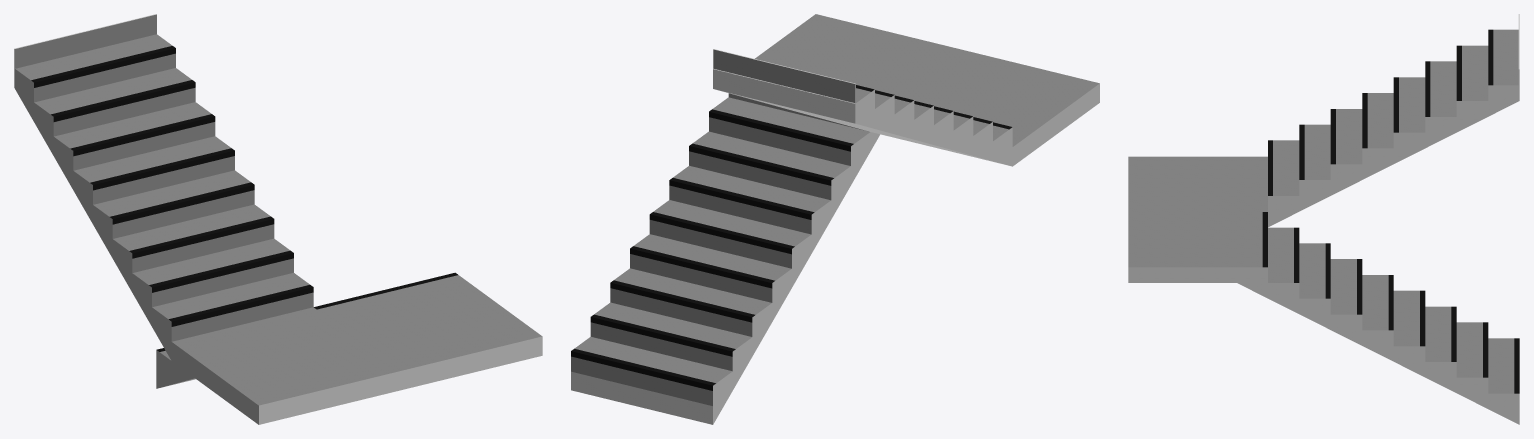
File: Schodisko_1NP.obj
The picture shows the model from 3 angles, left to right: view 1: azimuth 30°, elevation 25°; view 2: azimuth 150°, elevation 25°; view 3: azimuth 270°, elevation 25°; orthographic projection. The views are drawn at different scales.
Parts seen in each view (by area): view 1: Schodisko_1NP; view 2: Schodisko_1NP; view 3: Schodisko_1NP.
Part boxes in pixels (left/top/right/bottom): Schodisko_1NP: left=14, top=14, right=542, bottom=424; Schodisko_1NP: left=571, top=14, right=1099, bottom=424; Schodisko_1NP: left=1128, top=14, right=1519, bottom=424.
Bounding box in the file's own units: 0.1842 × 0.2327 × 0.2749.
